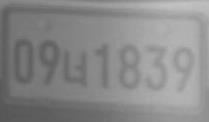0: (14, 37, 34, 83)
1: (92, 43, 114, 89)
3: (144, 44, 168, 90)
8: (118, 44, 142, 90)
9: (38, 38, 60, 86), (173, 46, 195, 92)
너: (62, 48, 88, 87)
